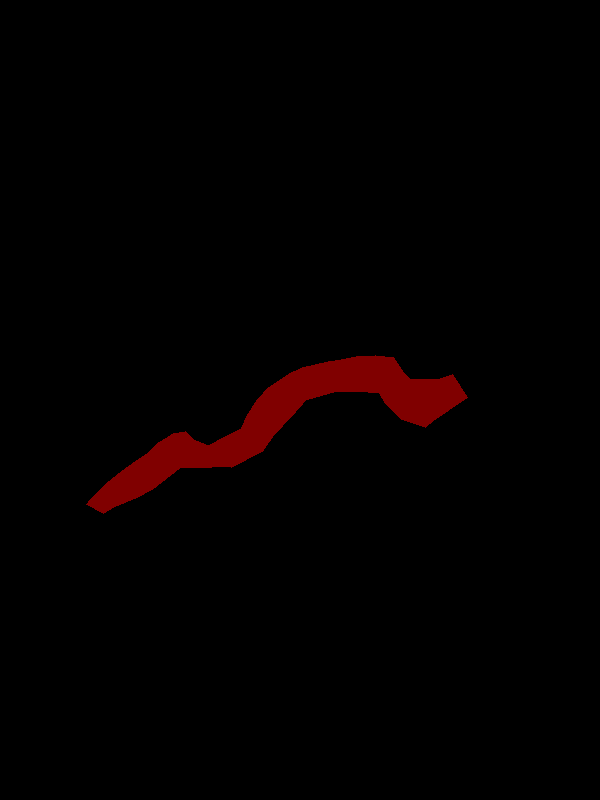fire: (86, 355, 467, 513)
